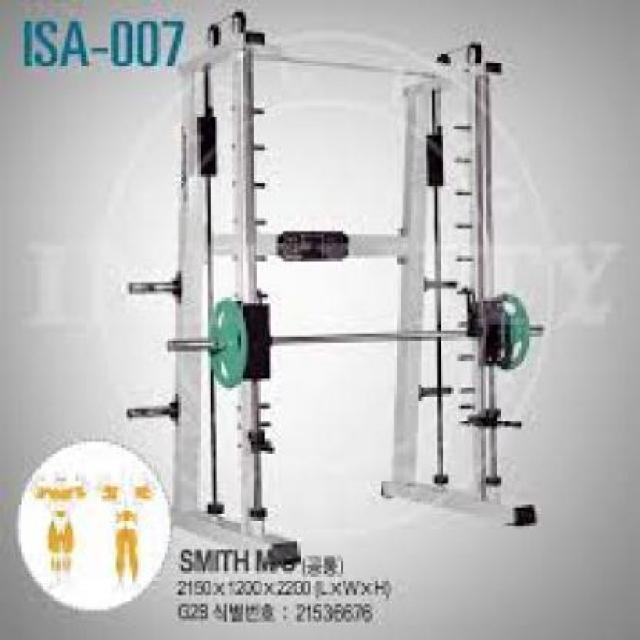smith machine: (125, 74, 546, 460)
